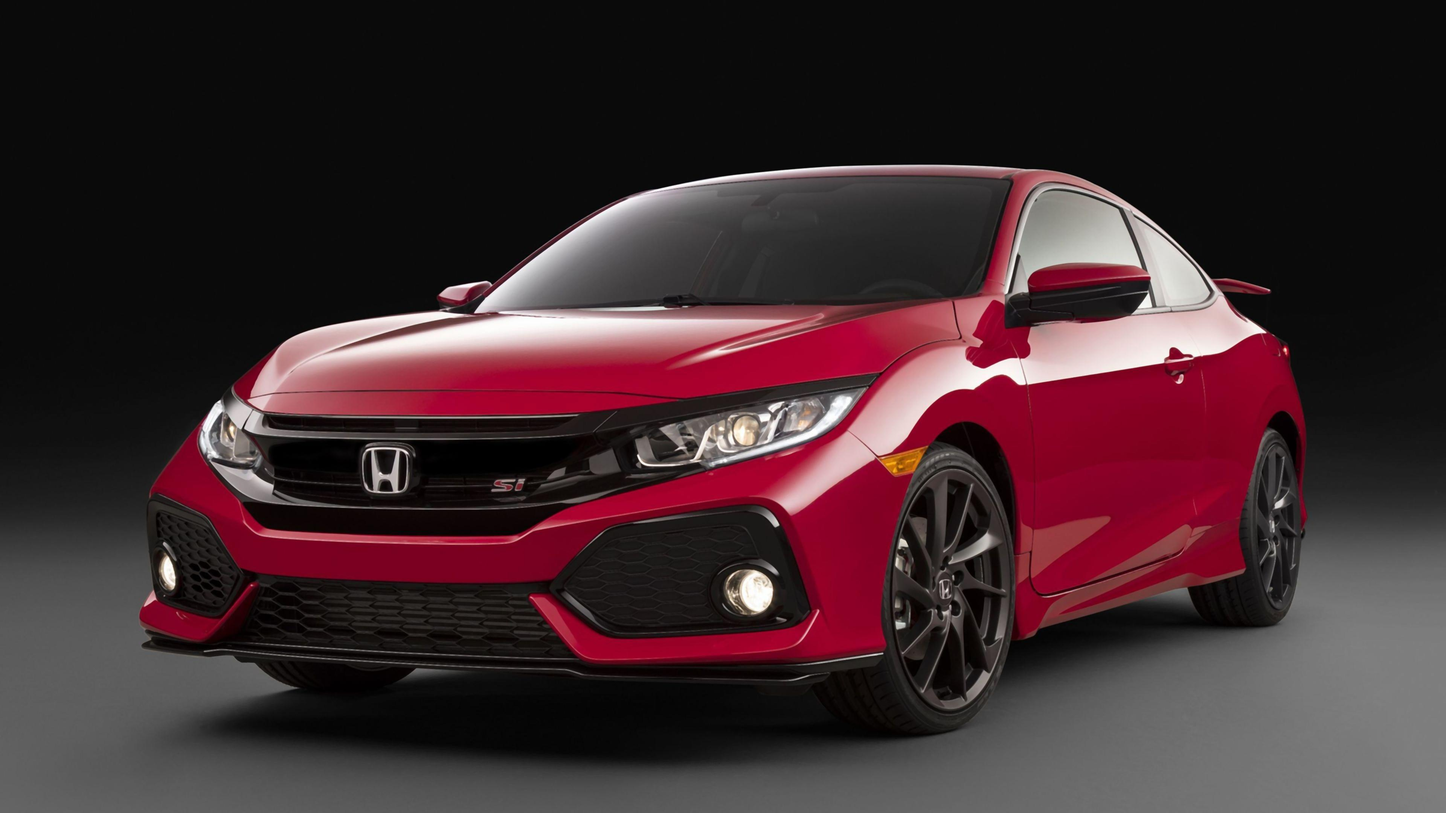Car hood: (236, 291, 969, 407)
Fender - -F-L-: (837, 280, 1046, 559)
Fender - -R-L-: (1184, 282, 1301, 532)
Front bumper: (129, 428, 914, 706)
Headlight - -L-: (626, 372, 880, 474)
Headlight - -R-: (201, 382, 280, 505)
Passenger-s door - -F-L-: (1003, 142, 1213, 606)
Side bumper - -L-: (1014, 518, 1254, 676)
Side mirror - -L-: (1001, 257, 1147, 329)
Side mirror - -R-: (430, 274, 498, 311)
